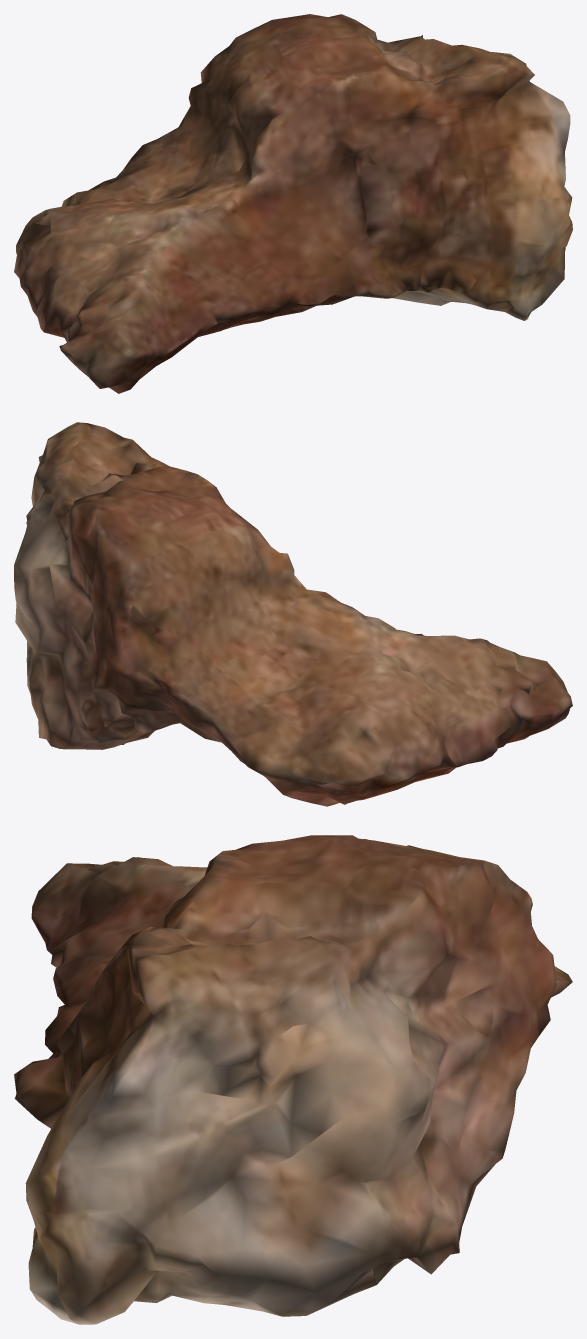
The model's file is rock-stone-01.30f76ed7.glb.
3 renders of one model, top to bottom at view 1: azimuth 30°, elevation 25°; view 2: azimuth 150°, elevation 25°; view 3: azimuth 270°, elevation 25°, orthographic. The views are drawn at different scales.
Visible parts, largest first — view 1: model; view 2: model; view 3: model.
Boxes of the visible parts, left/top/right/bottom form: model: left=14, top=14, right=572, bottom=393; model: left=14, top=422, right=572, bottom=806; model: left=14, top=835, right=572, bottom=1324.
Size of the model in its own units: 0.1462 by 0.071 by 0.089.
1 material, 1 textured.
